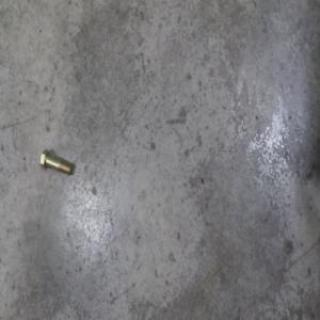Bolttrack_idkeyframe: (39, 148, 72, 178)
